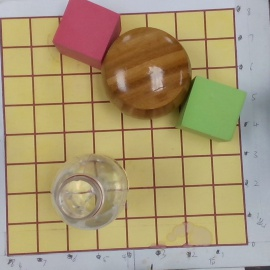bottle: (53, 155, 133, 230)
chess: (102, 27, 191, 122)
